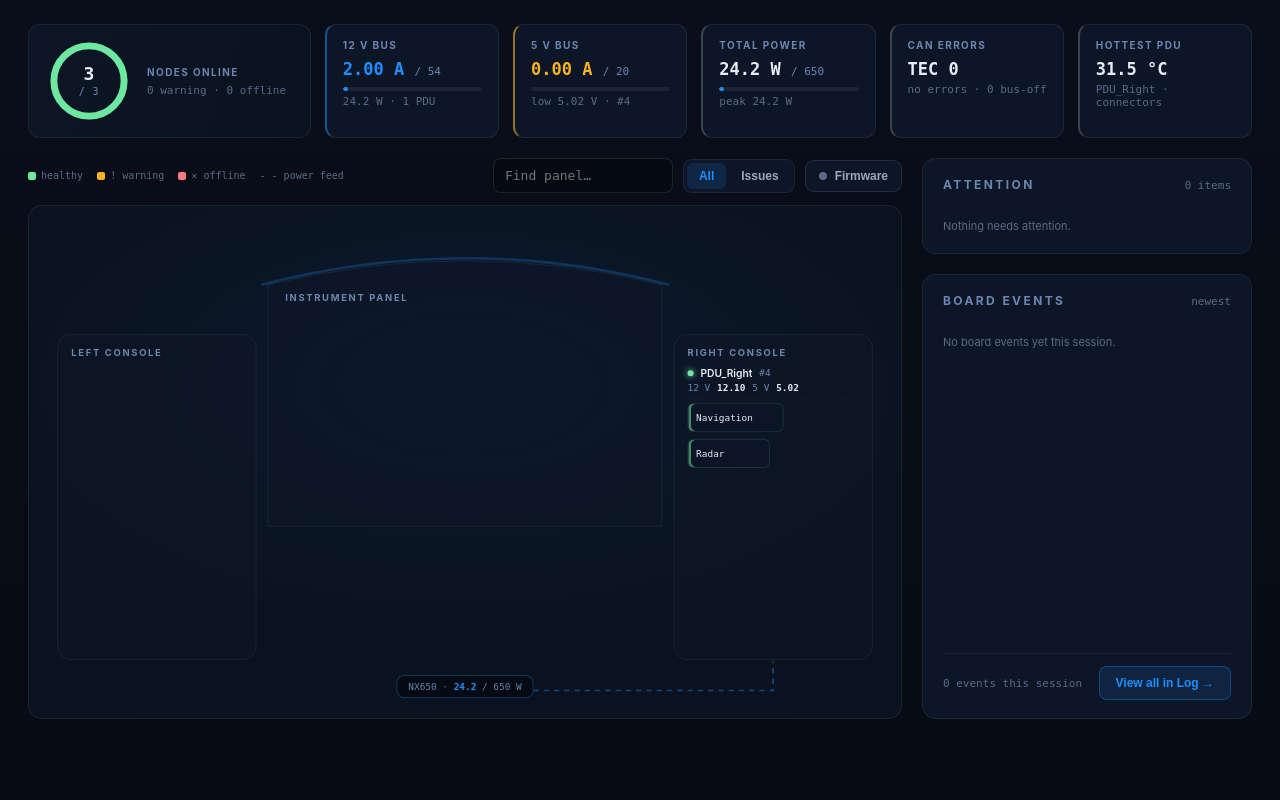
Test: T19 PDU panel (B71) › rails: avg / min / A / peak A per rail, a negative offset reads 0, and the W the client computes
The image size is (1280, 800).
What coordinates should you click on to do the following:
click the button titled "PDU_Right — power zone details"
I would click on:
 (770, 382)
Its box is left=684, top=365, right=855, bottom=399.
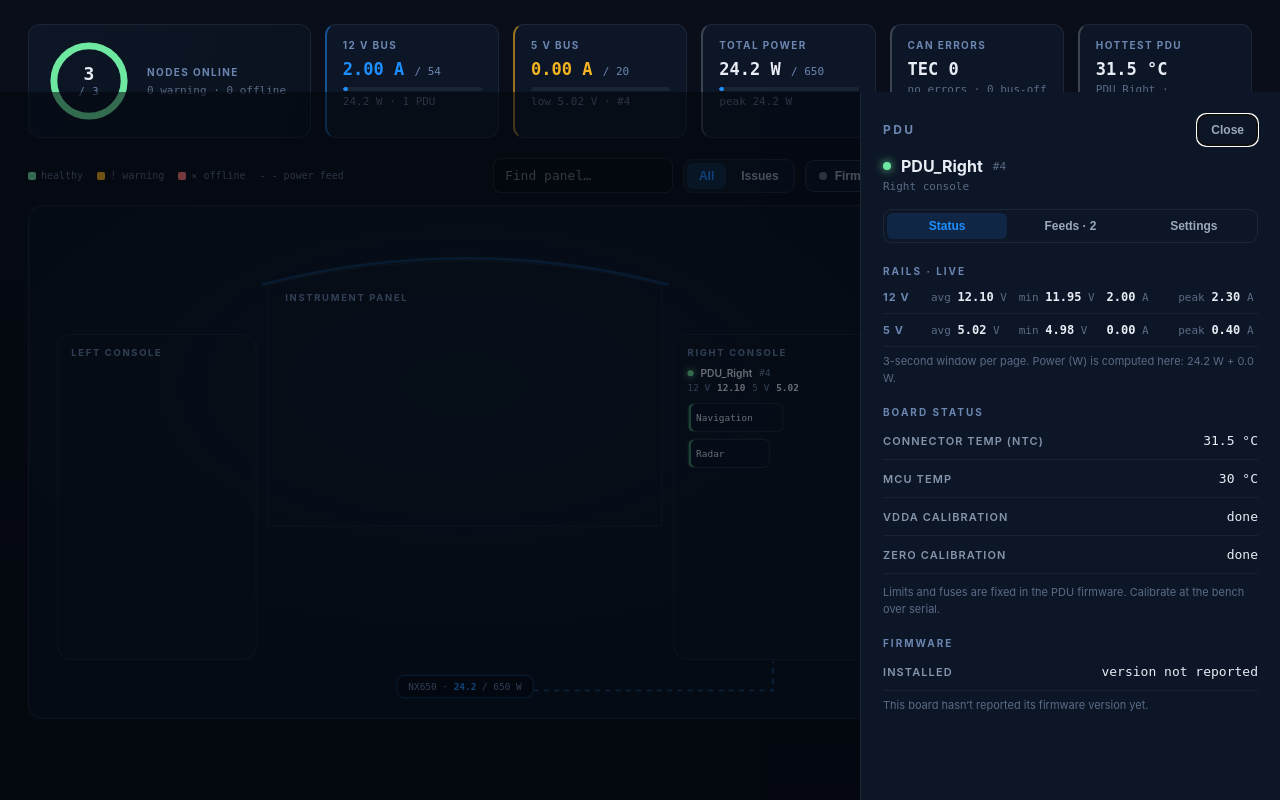
Check: the text "Rails · live" is shown, box left=883, top=265, right=966, bottom=277
Check: the text "3-second window per page. Power (W) is computed here: 24.2 W + 0.0 W." is shown, box left=883, top=353, right=1258, bottom=386
